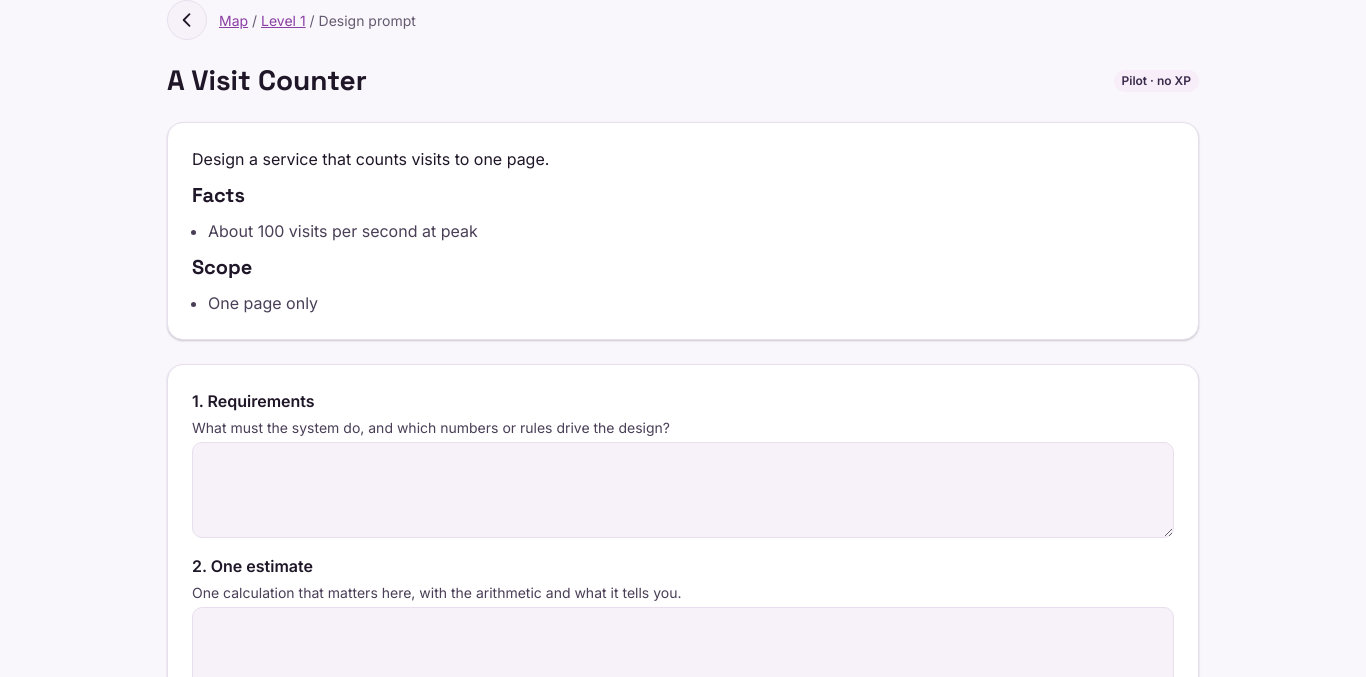
design prompts › sends the four sections, then shows the rubric and the reference on request
Check: the list item "About 100 visits per second at peak" is shown, box [208, 221, 478, 241]
Type "Count every visit, total at most 5 s old." into the text box labelled "1. Requirements". click: (683, 490)
box: [192, 442, 1174, 538]
(page scrolled)
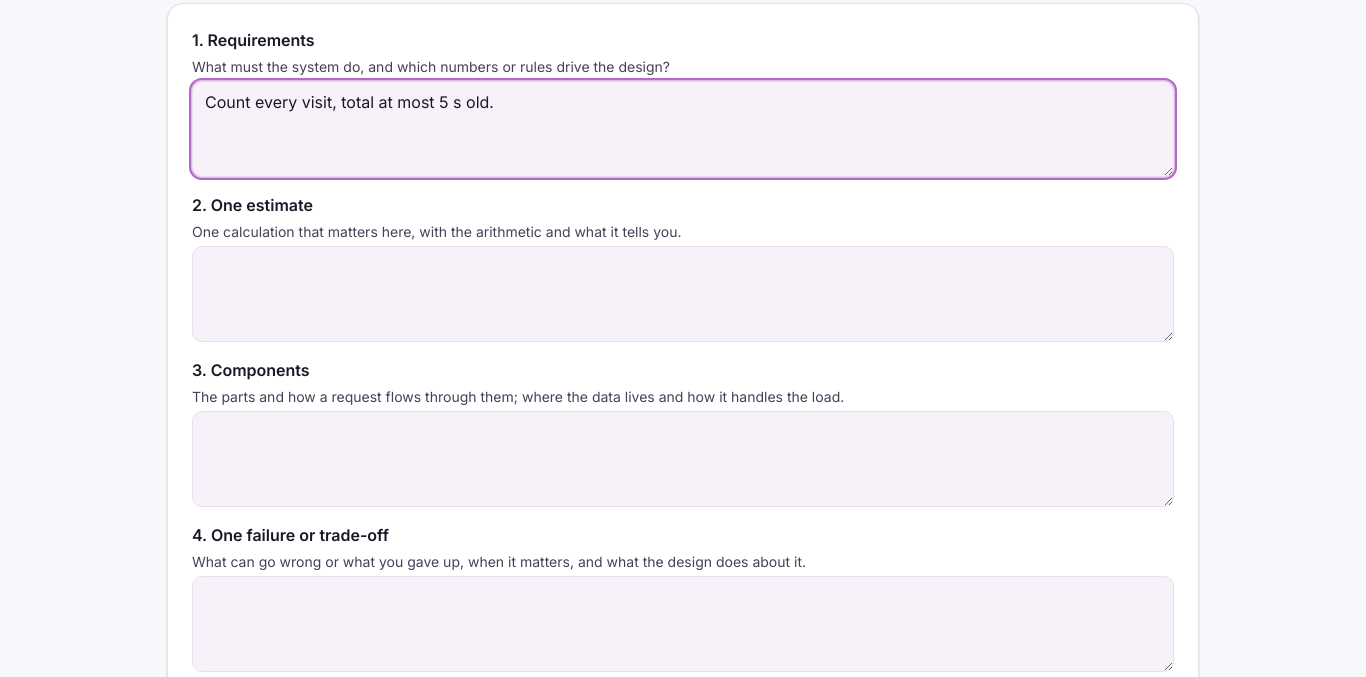
Type "100 writes per second is small." into the text box labelled "2. One estimate". click: (683, 294)
box: [192, 246, 1174, 342]
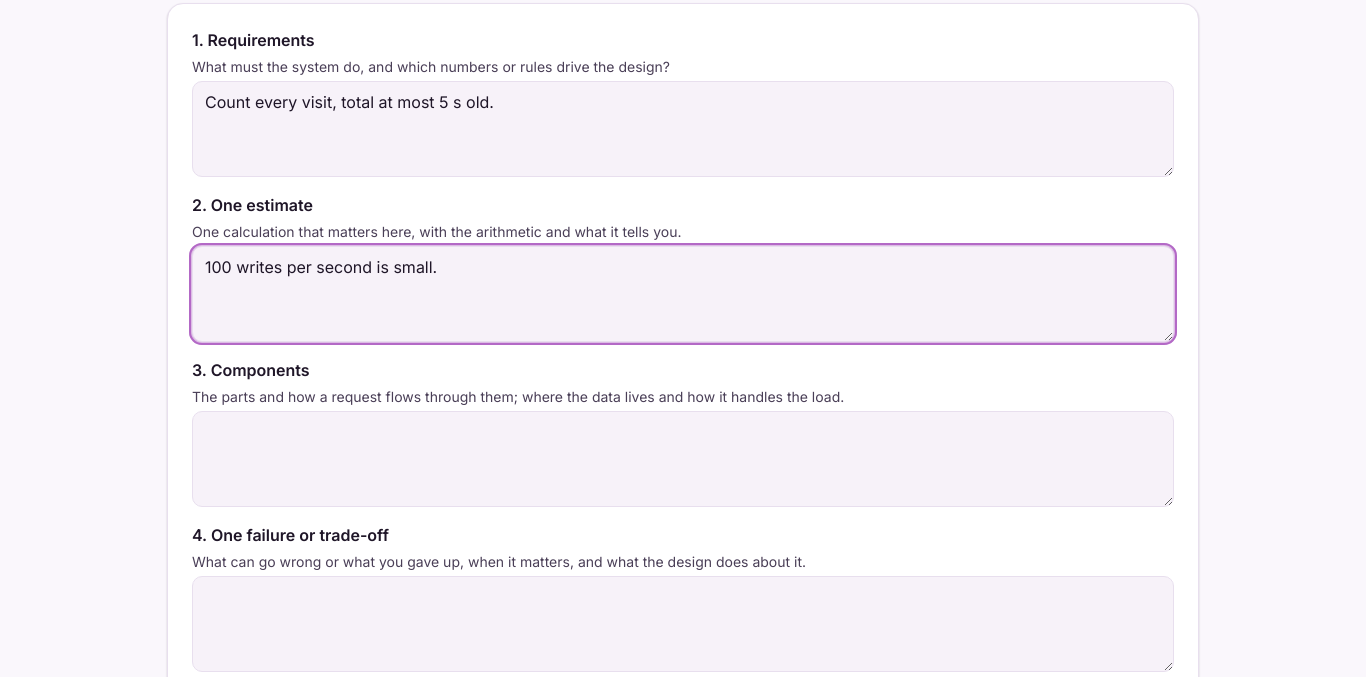
Type "One server and one counter row." into the text box labelled "3. Components". click: (683, 459)
box: [192, 411, 1174, 507]
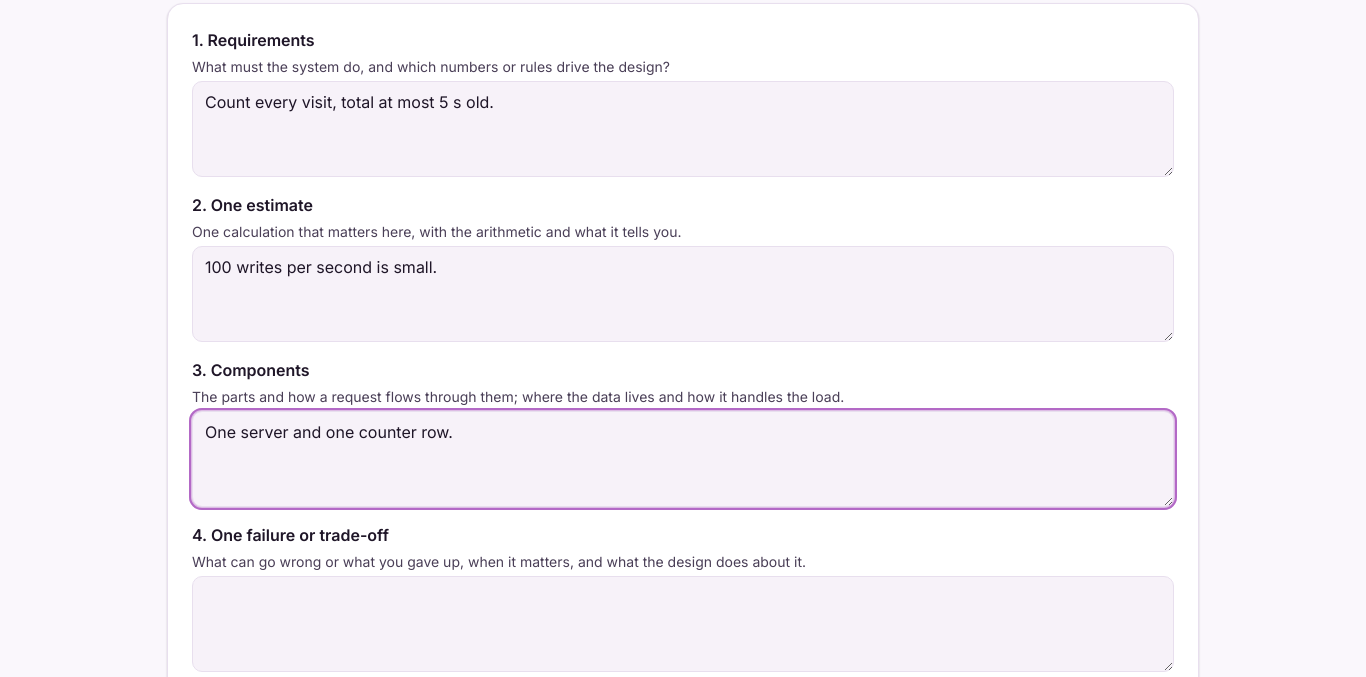
Type "A crash loses nothing once written." into the text box labelled "4. One failure or trade-off". click: (683, 624)
box: [192, 576, 1174, 672]
(page scrolled)
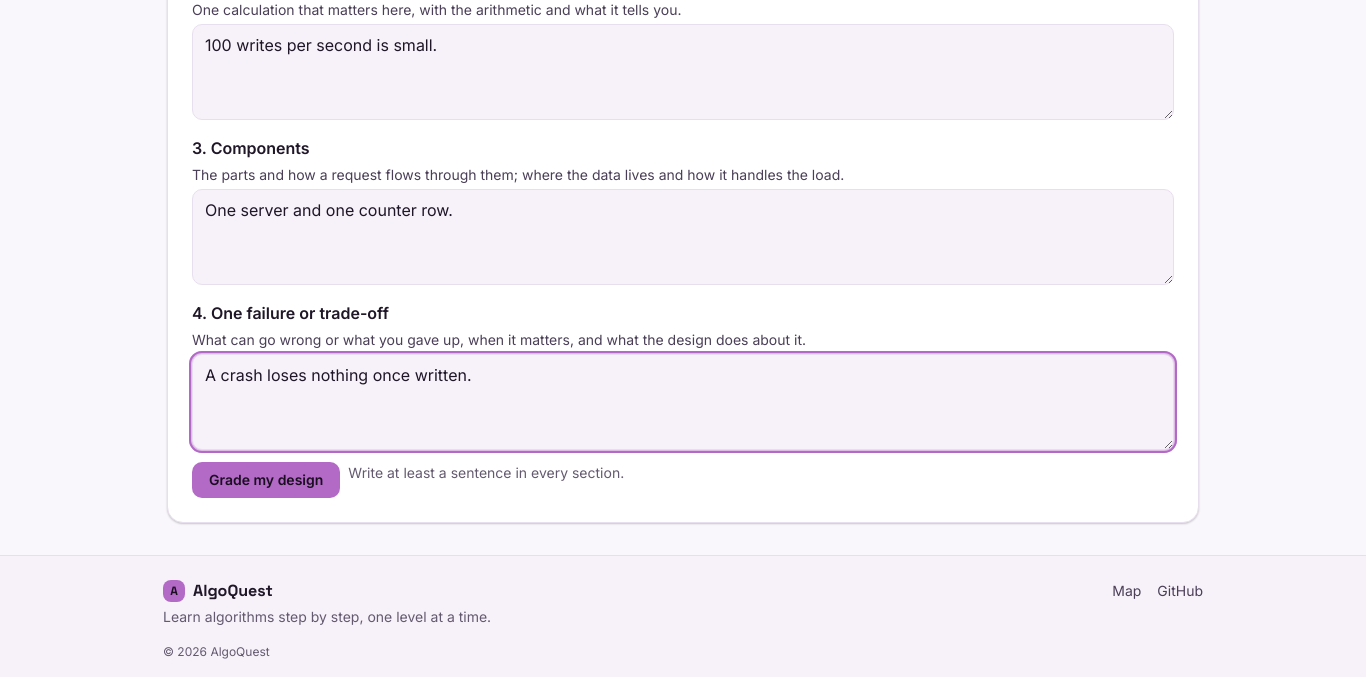
Click the button "Grade my design". click: (266, 480)
box: [192, 462, 340, 498]
(page scrolled)
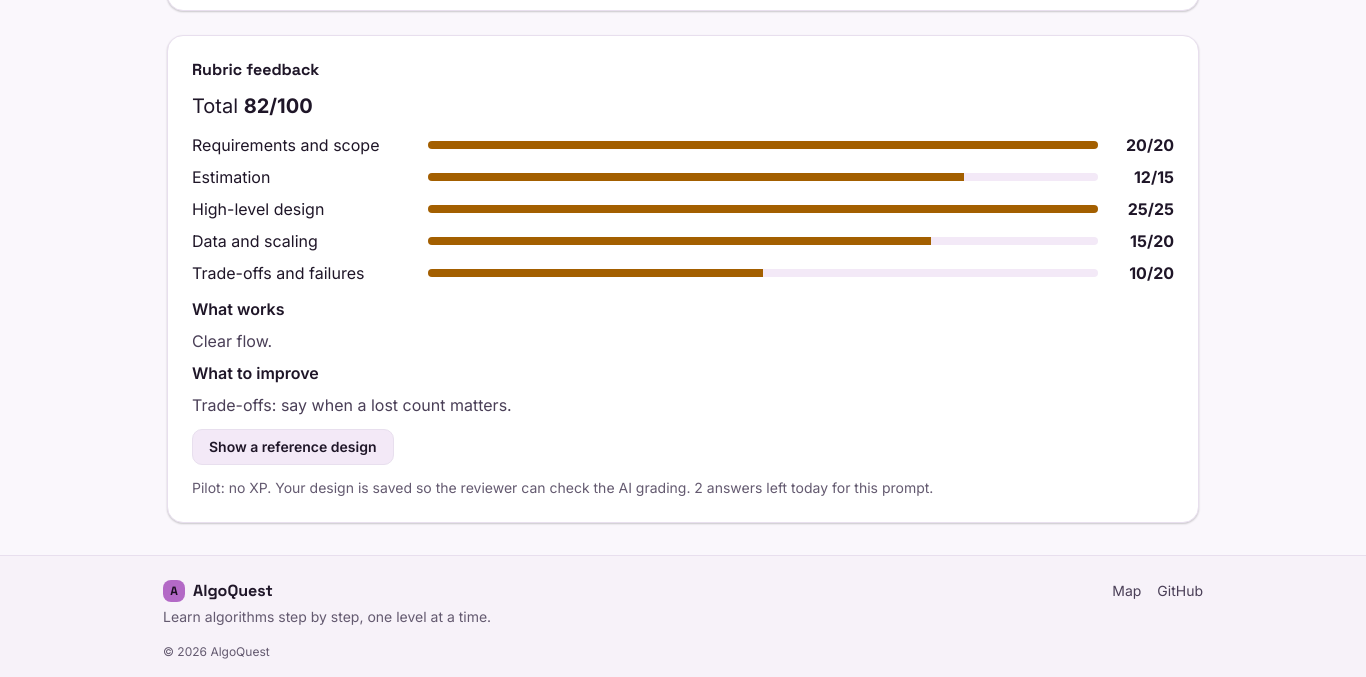
Check: the text "82/100" is shown, box [244, 94, 313, 118]
Check: the text "Trade-offs and failures" is shown, box [192, 263, 364, 283]
Check: the text "10/20" is shown, box [1129, 263, 1174, 283]
Click the button "Show a reference design". click: (293, 447)
box: [192, 429, 394, 465]
(page scrolled)
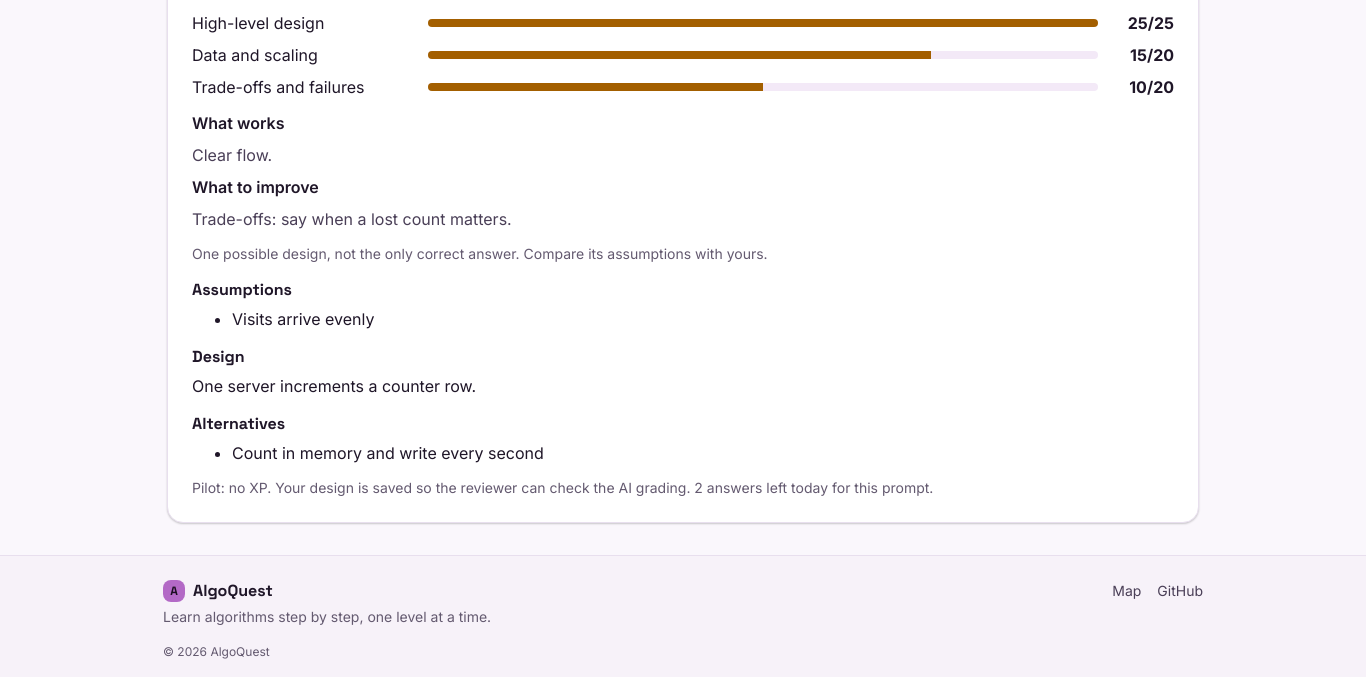
Check: the text "2 answers left today" is shown, box [192, 479, 933, 496]
Check: the text "One server increments a counter row." is shown, box [192, 376, 476, 396]
Check: the text "not the only correct answer" is shown, box [192, 245, 768, 262]
